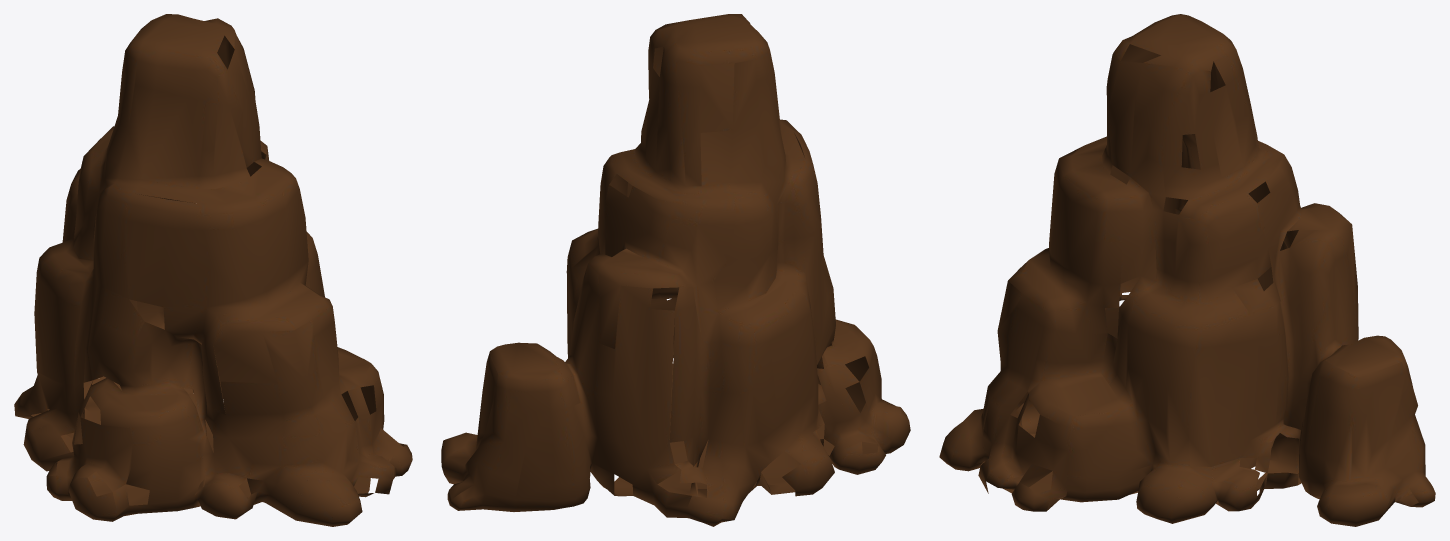
File: pila_de_rocas_2.glb
3 renders of one model, left to right at view 1: azimuth 30°, elevation 25°; view 2: azimuth 150°, elevation 25°; view 3: azimuth 270°, elevation 25°, orthographic. The views are drawn at different scales.
Visible parts, largest first — view 1: pila_de_rocas_2; view 2: pila_de_rocas_2; view 3: pila_de_rocas_2.
Part boxes in pixels (x1,y1,x2,y2): pila_de_rocas_2: [14, 14, 412, 526]; pila_de_rocas_2: [441, 14, 910, 526]; pila_de_rocas_2: [939, 14, 1435, 526].
Size of what is drawn, in the model's own units: 0.758 by 0.917 by 1.
1 material, 1 textured.
